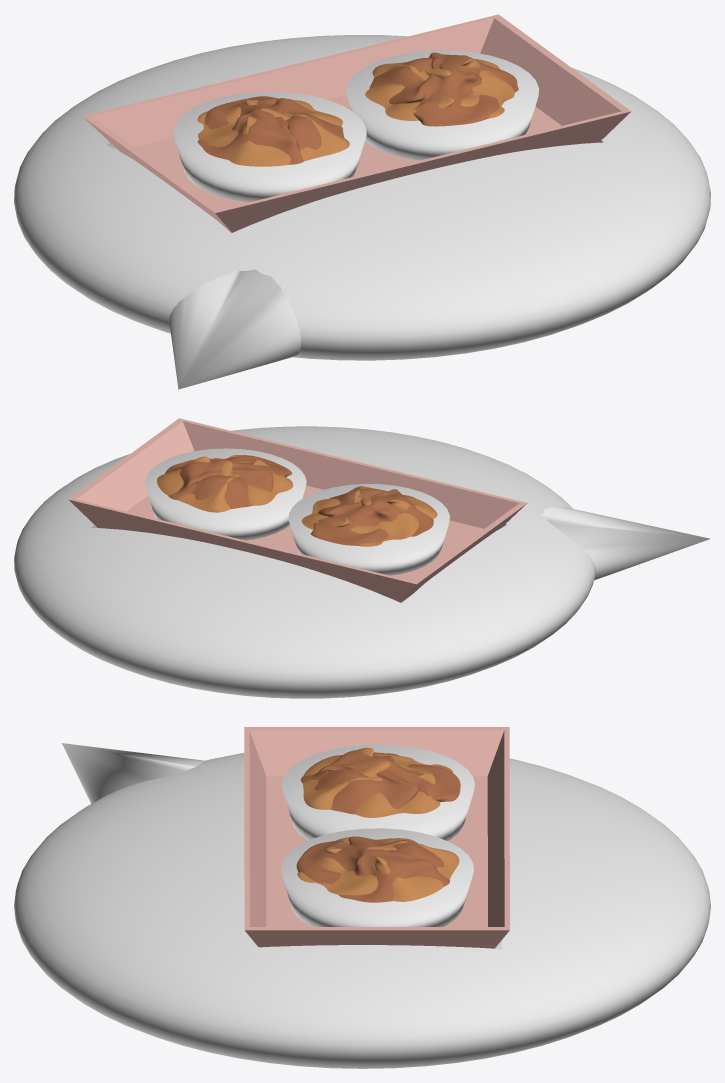
File: ckreq.fbx
The picture shows the model from 3 angles, top to bottom: view 1: azimuth 30°, elevation 25°; view 2: azimuth 150°, elevation 25°; view 3: azimuth 270°, elevation 25°; orthographic projection. The views are drawn at different scales.
Visible parts, largest first — view 1: Sphere.005, Cube.004, Cone, Cylinder.020, Cylinder.021, Sphere.039, Sphere.004, Sphere.003, Sphere.002; view 2: Sphere.005, Cube.004, Cylinder.020, Cylinder.021, Cone, Sphere.004, Sphere.039, Sphere.002, Sphere.003; view 3: Sphere.005, Cube.004, Cylinder.021, Cylinder.020, Sphere.004, Sphere.039, Cone, Sphere.002, Sphere.003.
Boxes of the visible parts, x1=… form: Sphere.005: x1=14, y1=35, x2=710, y2=360; Cube.004: x1=82, y1=14, x2=631, y2=232; Cone: x1=169, y1=269, x2=300, y2=389; Cylinder.020: x1=173, y1=92, x2=366, y2=202; Cylinder.021: x1=346, y1=50, x2=538, y2=160; Sphere.039: x1=369, y1=52, x2=518, y2=126; Sphere.004: x1=197, y1=96, x2=344, y2=164; Sphere.003: x1=197, y1=99, x2=349, y2=166; Sphere.002: x1=365, y1=58, x2=514, y2=120; Sphere.005: x1=14, y1=426, x2=595, y2=698; Cube.004: x1=68, y1=418, x2=527, y2=602; Cylinder.020: x1=288, y1=484, x2=449, y2=575; Cylinder.021: x1=145, y1=448, x2=306, y2=540; Cone: x1=542, y1=506, x2=710, y2=580; Sphere.004: x1=310, y1=488, x2=433, y2=545; Sphere.039: x1=165, y1=455, x2=292, y2=508; Sphere.002: x1=157, y1=455, x2=293, y2=512; Sphere.003: x1=301, y1=486, x2=437, y2=546; Sphere.005: x1=14, y1=753, x2=710, y2=1068; Cube.004: x1=244, y1=727, x2=509, y2=948; Cylinder.021: x1=281, y1=828, x2=473, y2=926; Cylinder.020: x1=282, y1=744, x2=474, y2=840; Sphere.004: x1=300, y1=750, x2=460, y2=814; Sphere.039: x1=296, y1=836, x2=449, y2=902; Cone: x1=62, y1=743, x2=204, y2=803; Sphere.002: x1=297, y1=837, x2=459, y2=901; Sphere.003: x1=302, y1=747, x2=452, y2=817.
Size of the model in its own units: 339 by 88.87 by 322.
